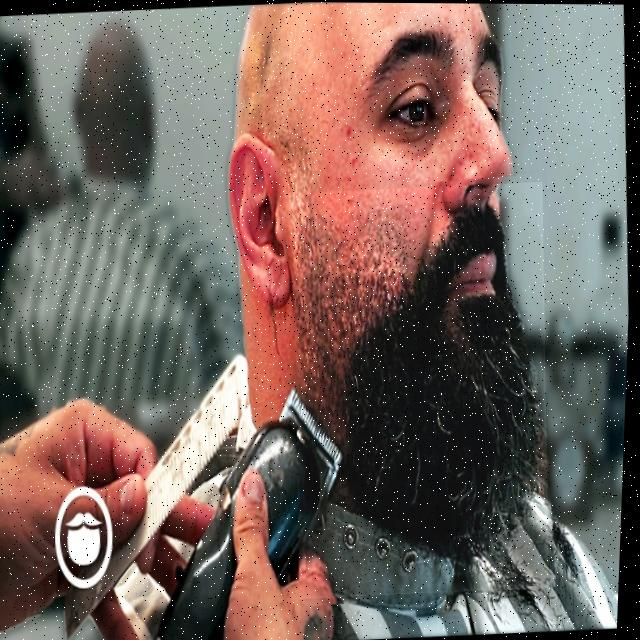beard: (296, 193, 550, 587)
